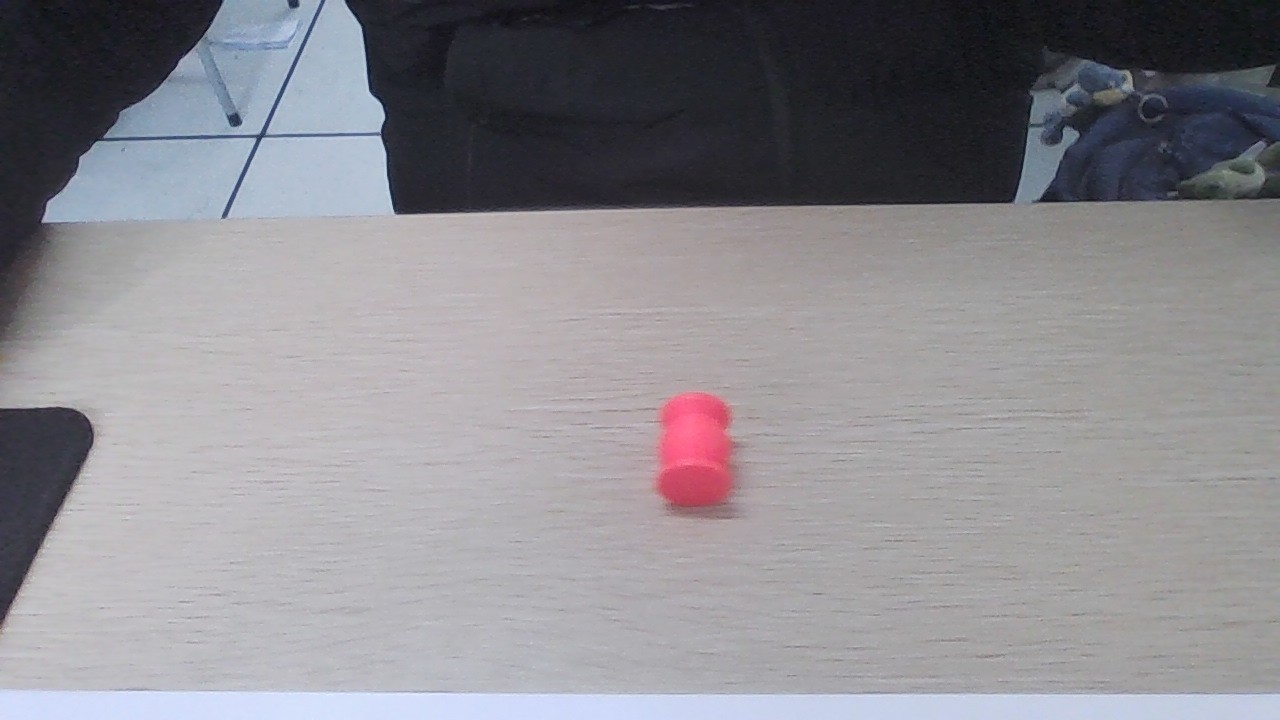KHS-plastic: (651, 382, 733, 511)
